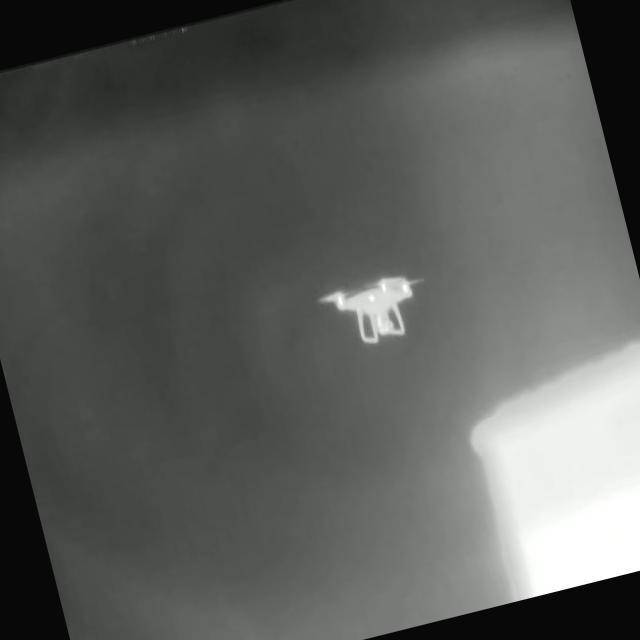DRONE: (316, 271, 427, 346)
